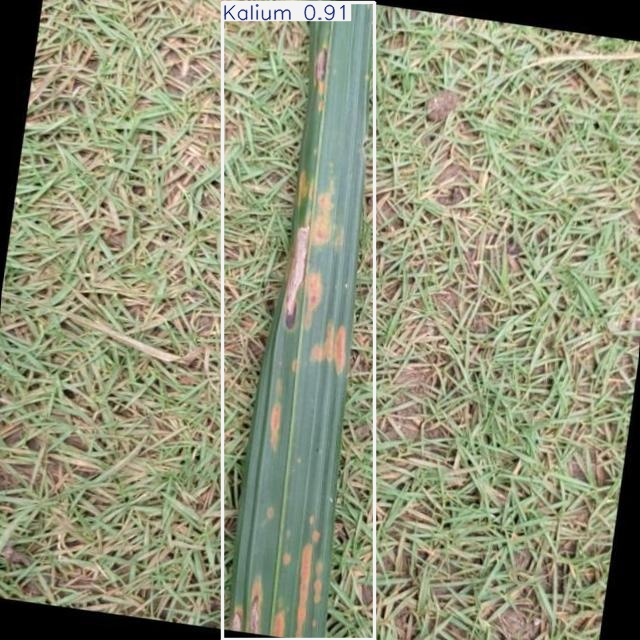Kalium: (223, 3, 374, 639)
